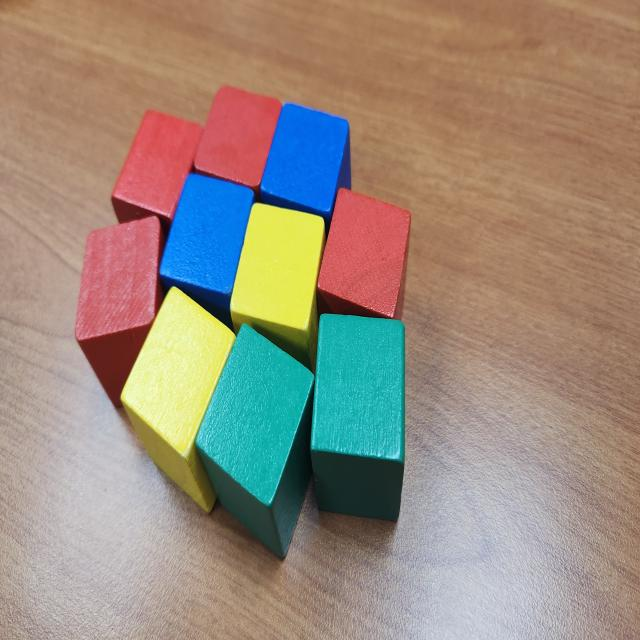blue: (157, 171, 256, 337), (257, 102, 351, 234)
green: (192, 320, 316, 560), (310, 312, 406, 525)
red: (74, 217, 170, 409), (316, 188, 411, 326), (110, 108, 206, 228), (194, 84, 284, 191)
yellow: (120, 286, 238, 513), (230, 202, 327, 370)
